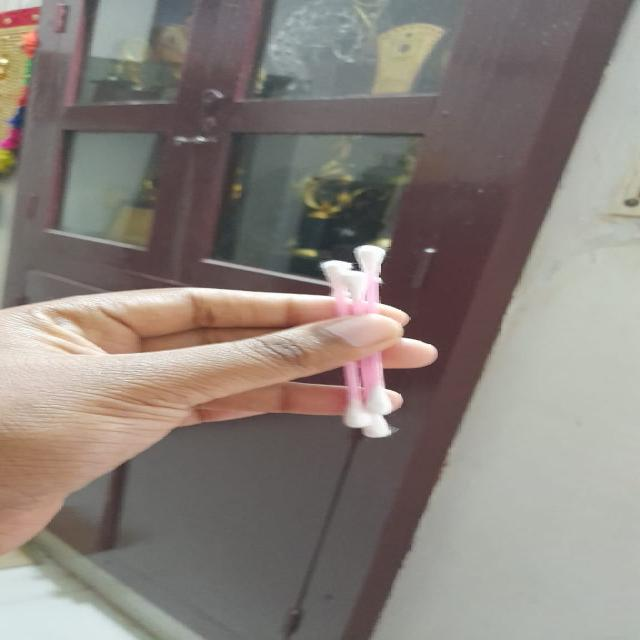Earbud - Non Recyclable: (315, 244, 399, 438)
